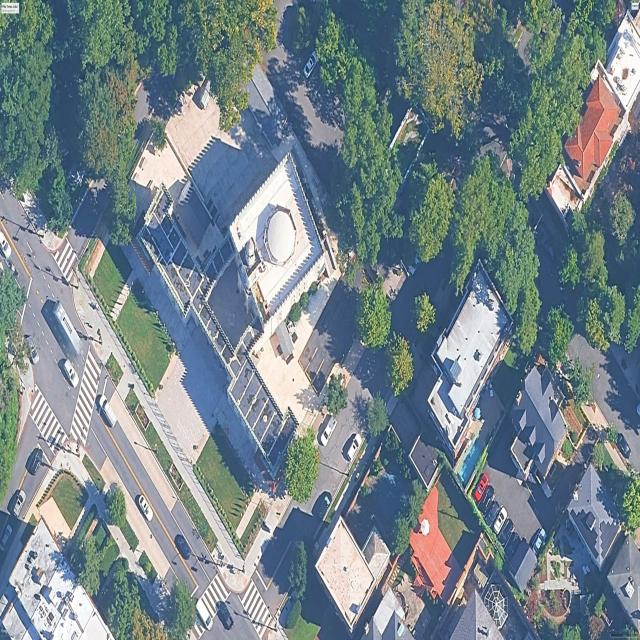Home: (511, 366, 567, 482), (565, 75, 622, 183), (410, 487, 462, 603), (569, 464, 621, 568), (608, 535, 640, 632), (449, 591, 504, 640), (511, 540, 537, 591)
mosque: (138, 153, 330, 477)
